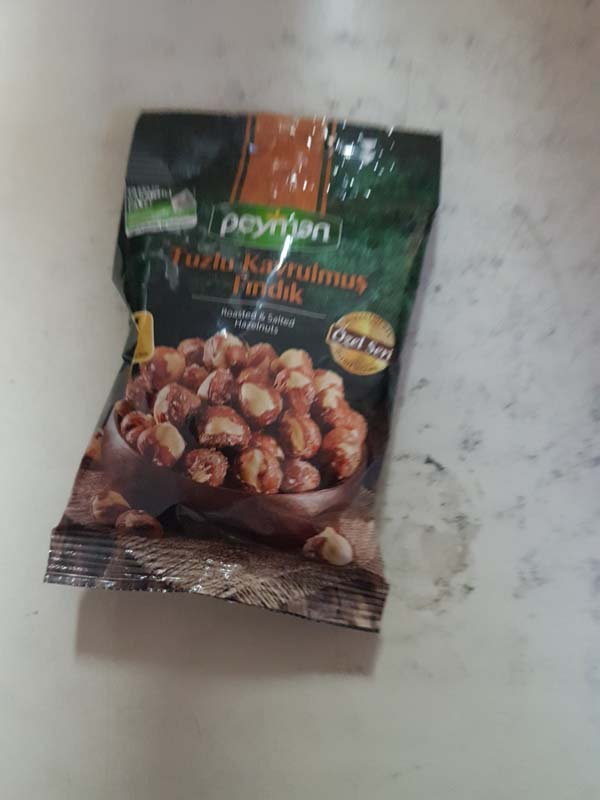peysankavrulmusfindik: (45, 99, 447, 642)
